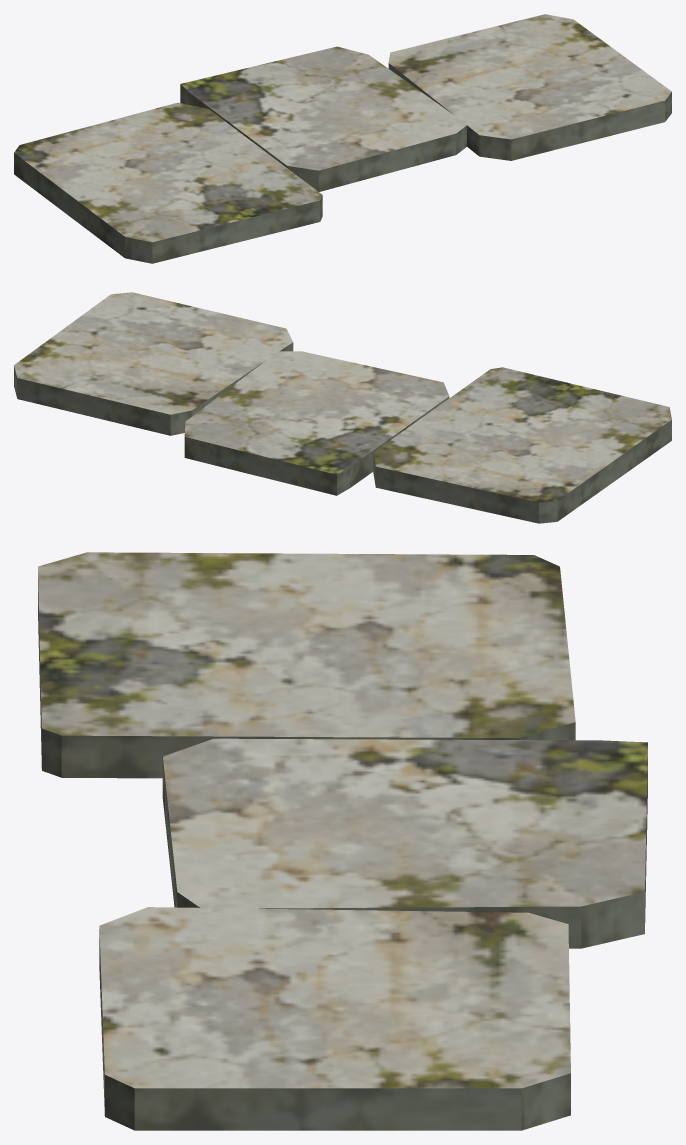
The model's file is Paving_Broken_A.glb.
3 renders of one model, top to bottom at view 1: azimuth 30°, elevation 25°; view 2: azimuth 150°, elevation 25°; view 3: azimuth 270°, elevation 25°, orthographic. The views are drawn at different scales.
Visible parts, largest first — view 1: Paving_Broken_A; view 2: Paving_Broken_A; view 3: Paving_Broken_A.
Part boxes in pixels (x1,y1,x2,y2): Paving_Broken_A: (14, 14, 671, 263); Paving_Broken_A: (14, 292, 671, 523); Paving_Broken_A: (38, 552, 647, 1130).
Size of the model in its own units: 2.18 by 0.08 by 1.05.
1 material, 1 textured.
